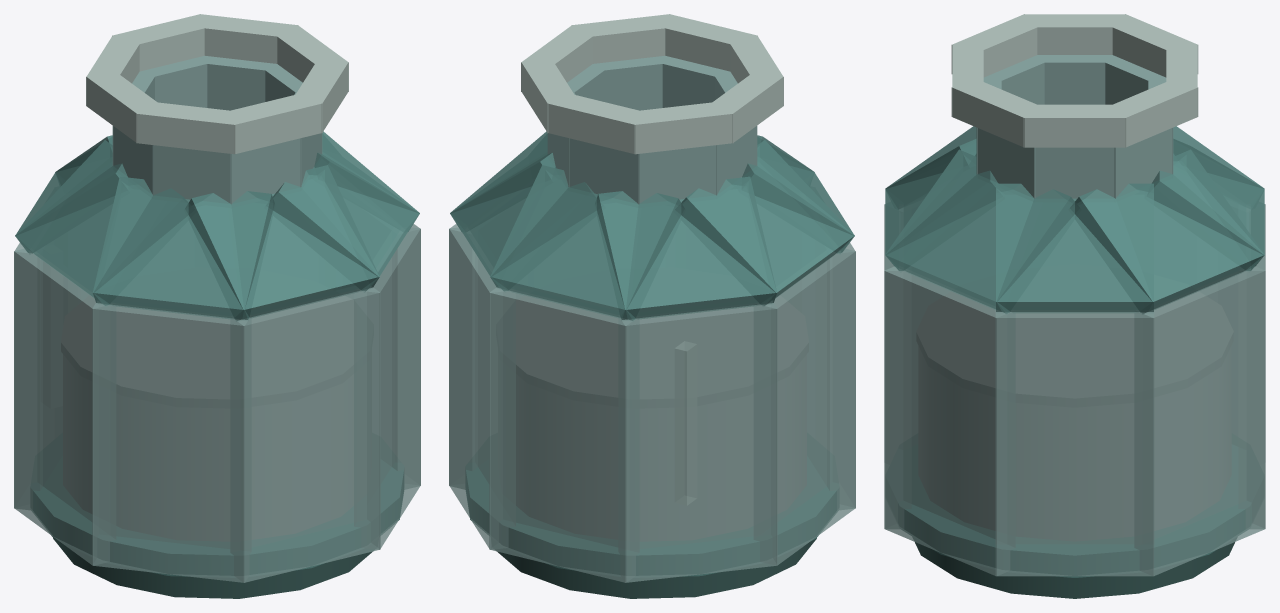
Rendered from CMU3DBottleFill3StudyCloud.glb.
3 renders of one model, left to right at view 1: azimuth 30°, elevation 25°; view 2: azimuth 150°, elevation 25°; view 3: azimuth 270°, elevation 25°, orthographic.
Parts seen in each view (by area): view 1: hollow bottle wall 06, hollow bottle wall 07, static liquid volume level 3, hollow bottle wall 05, flat liquid meniscus, inward glass shoulder 06, inward glass shoulder 07, hollow bottle wall 08, inward glass shoulder 05, bottom glass welt, inward glass shoulder 08, hollow bottle wall 01 (+20 smaller); view 2: hollow bottle wall 04, hollow bottle wall 03, static liquid volume level 3, hollow bottle wall 05, flat liquid meniscus, inward glass shoulder 04, inward glass shoulder 03, hollow bottle wall 02, inward glass shoulder 05, bottom glass welt, inward glass shoulder 02, hollow bottle wall 06 (+21 smaller); view 3: hollow bottle wall 01, static liquid volume level 3, hollow bottle wall 02, hollow bottle wall 08, flat liquid meniscus, inward glass shoulder 01, inward glass shoulder 02, inward glass shoulder 08, bottom glass welt, inward glass shoulder 03, inward glass shoulder 07, hollow bottle wall 03 (+20 smaller).
Part boxes in pixels (x1=…): hollow bottle wall 06: x1=92, y1=303, x2=251, y2=582; hollow bottle wall 07: x1=230, y1=287, x2=380, y2=582; static liquid volume level 3: x1=63, y1=355, x2=353, y2=540; hollow bottle wall 05: x1=14, y1=248, x2=115, y2=565; flat liquid meniscus: x1=61, y1=296, x2=353, y2=407; inward glass shoulder 06: x1=92, y1=176, x2=274, y2=320; inward glass shoulder 07: x1=185, y1=165, x2=379, y2=321; hollow bottle wall 08: x1=354, y1=228, x2=420, y2=549; inward glass shoulder 05: x1=15, y1=140, x2=194, y2=306; bottom glass welt: x1=31, y1=456, x2=403, y2=577; inward glass shoulder 08: x1=266, y1=131, x2=419, y2=292; hollow bottle wall 01: x1=347, y1=224, x2=420, y2=489; hollow bottle wall 04: x1=618, y1=302, x2=777, y2=582; hollow bottle wall 03: x1=489, y1=287, x2=639, y2=582; static liquid volume level 3: x1=516, y1=355, x2=806, y2=540; hollow bottle wall 05: x1=754, y1=248, x2=855, y2=565; flat liquid meniscus: x1=516, y1=296, x2=808, y2=407; inward glass shoulder 04: x1=595, y1=176, x2=777, y2=320; inward glass shoulder 03: x1=490, y1=165, x2=684, y2=321; hollow bottle wall 02: x1=449, y1=228, x2=515, y2=549; inward glass shoulder 05: x1=675, y1=140, x2=854, y2=306; bottom glass welt: x1=466, y1=456, x2=838, y2=577; inward glass shoulder 02: x1=450, y1=131, x2=603, y2=292; hollow bottle wall 06: x1=816, y1=243, x2=855, y2=510; hollow bottle wall 01: x1=995, y1=310, x2=1154, y2=576; static liquid volume level 3: x1=919, y1=348, x2=1230, y2=540; hollow bottle wall 02: x1=1134, y1=266, x2=1265, y2=576; hollow bottle wall 08: x1=884, y1=266, x2=1015, y2=576; flat liquid meniscus: x1=917, y1=292, x2=1232, y2=406; inward glass shoulder 01: x1=996, y1=183, x2=1153, y2=312; inward glass shoulder 02: x1=1070, y1=149, x2=1264, y2=314; inward glass shoulder 08: x1=885, y1=149, x2=1079, y2=314; bottom glass welt: x1=898, y1=444, x2=1251, y2=577; inward glass shoulder 03: x1=1147, y1=126, x2=1264, y2=271; inward glass shoulder 07: x1=885, y1=126, x2=1002, y2=271; hollow bottle wall 03: x1=1238, y1=205, x2=1265, y2=529.
Bounding box in the file's own units: 0.3387 × 0.453 × 0.3387.
